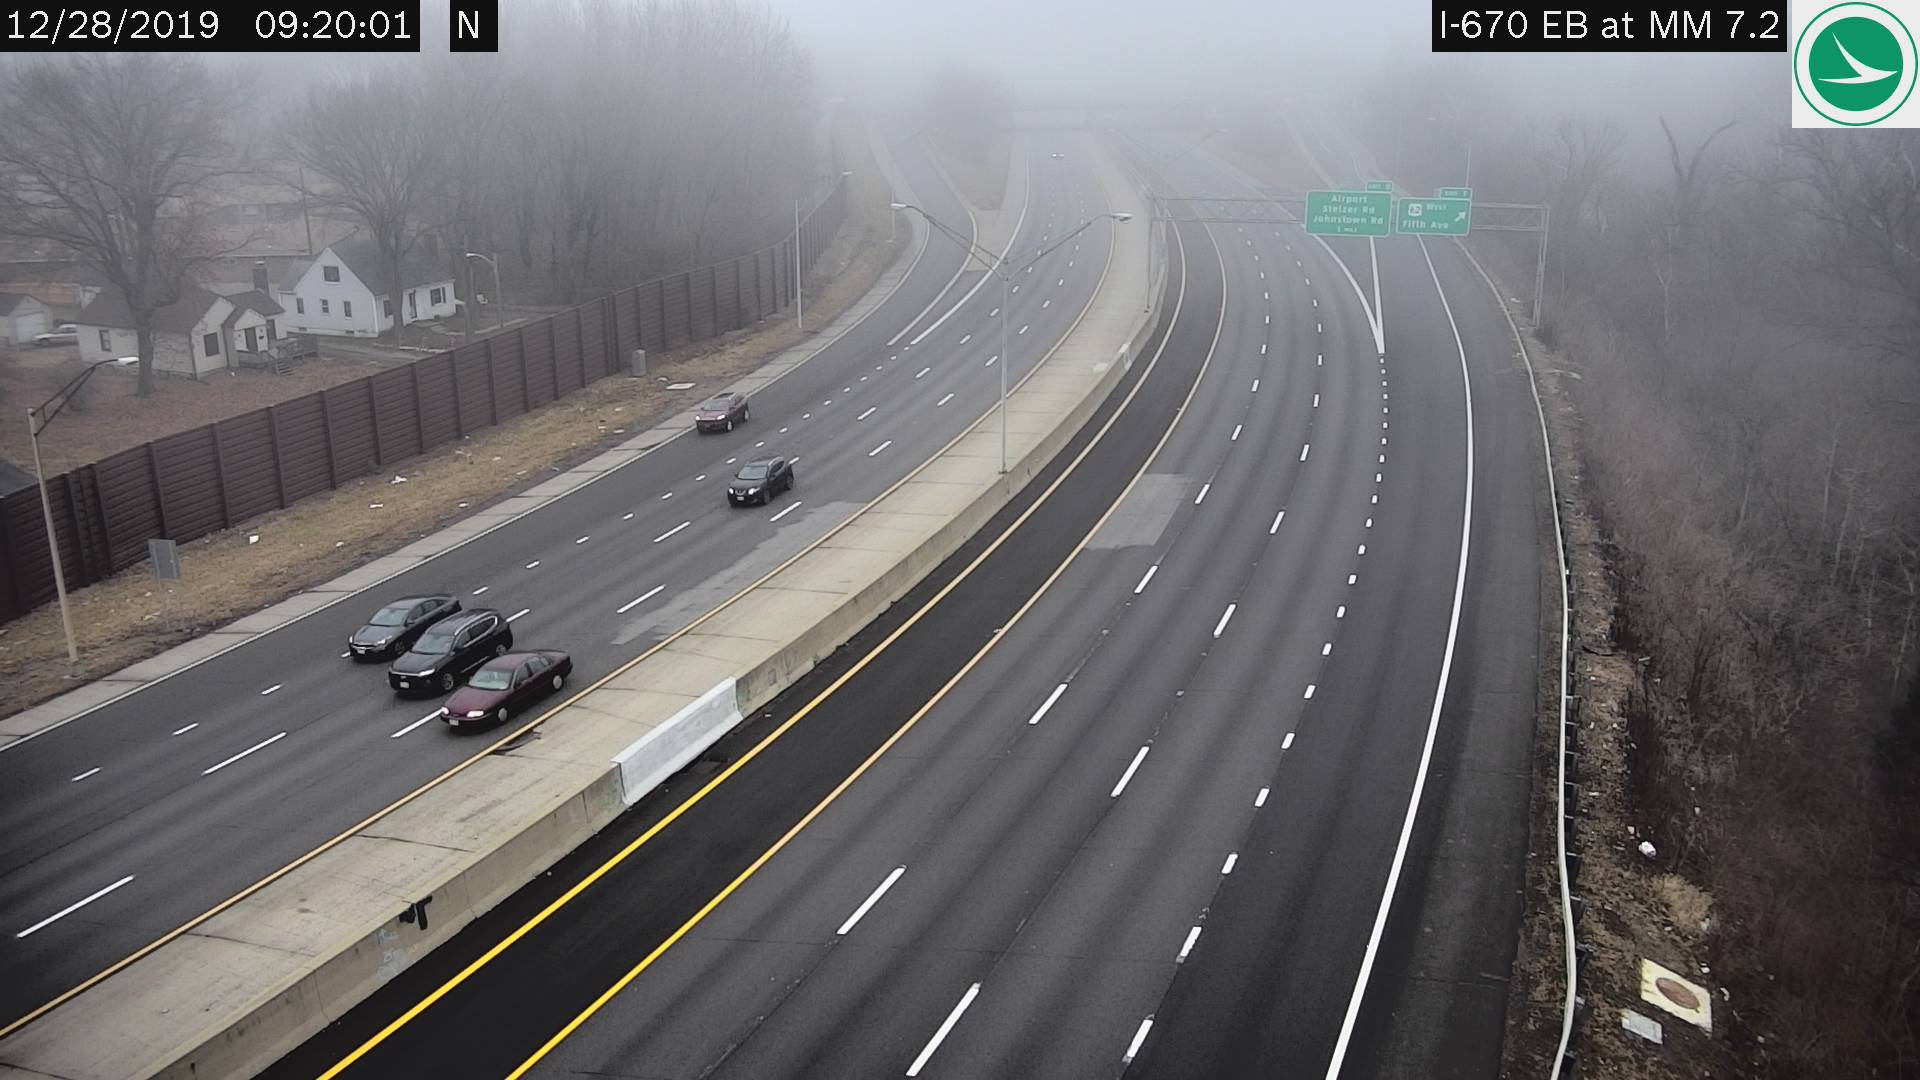car: (442, 647, 574, 736), (390, 608, 514, 692), (349, 592, 458, 665), (731, 456, 794, 504), (694, 392, 746, 433)
